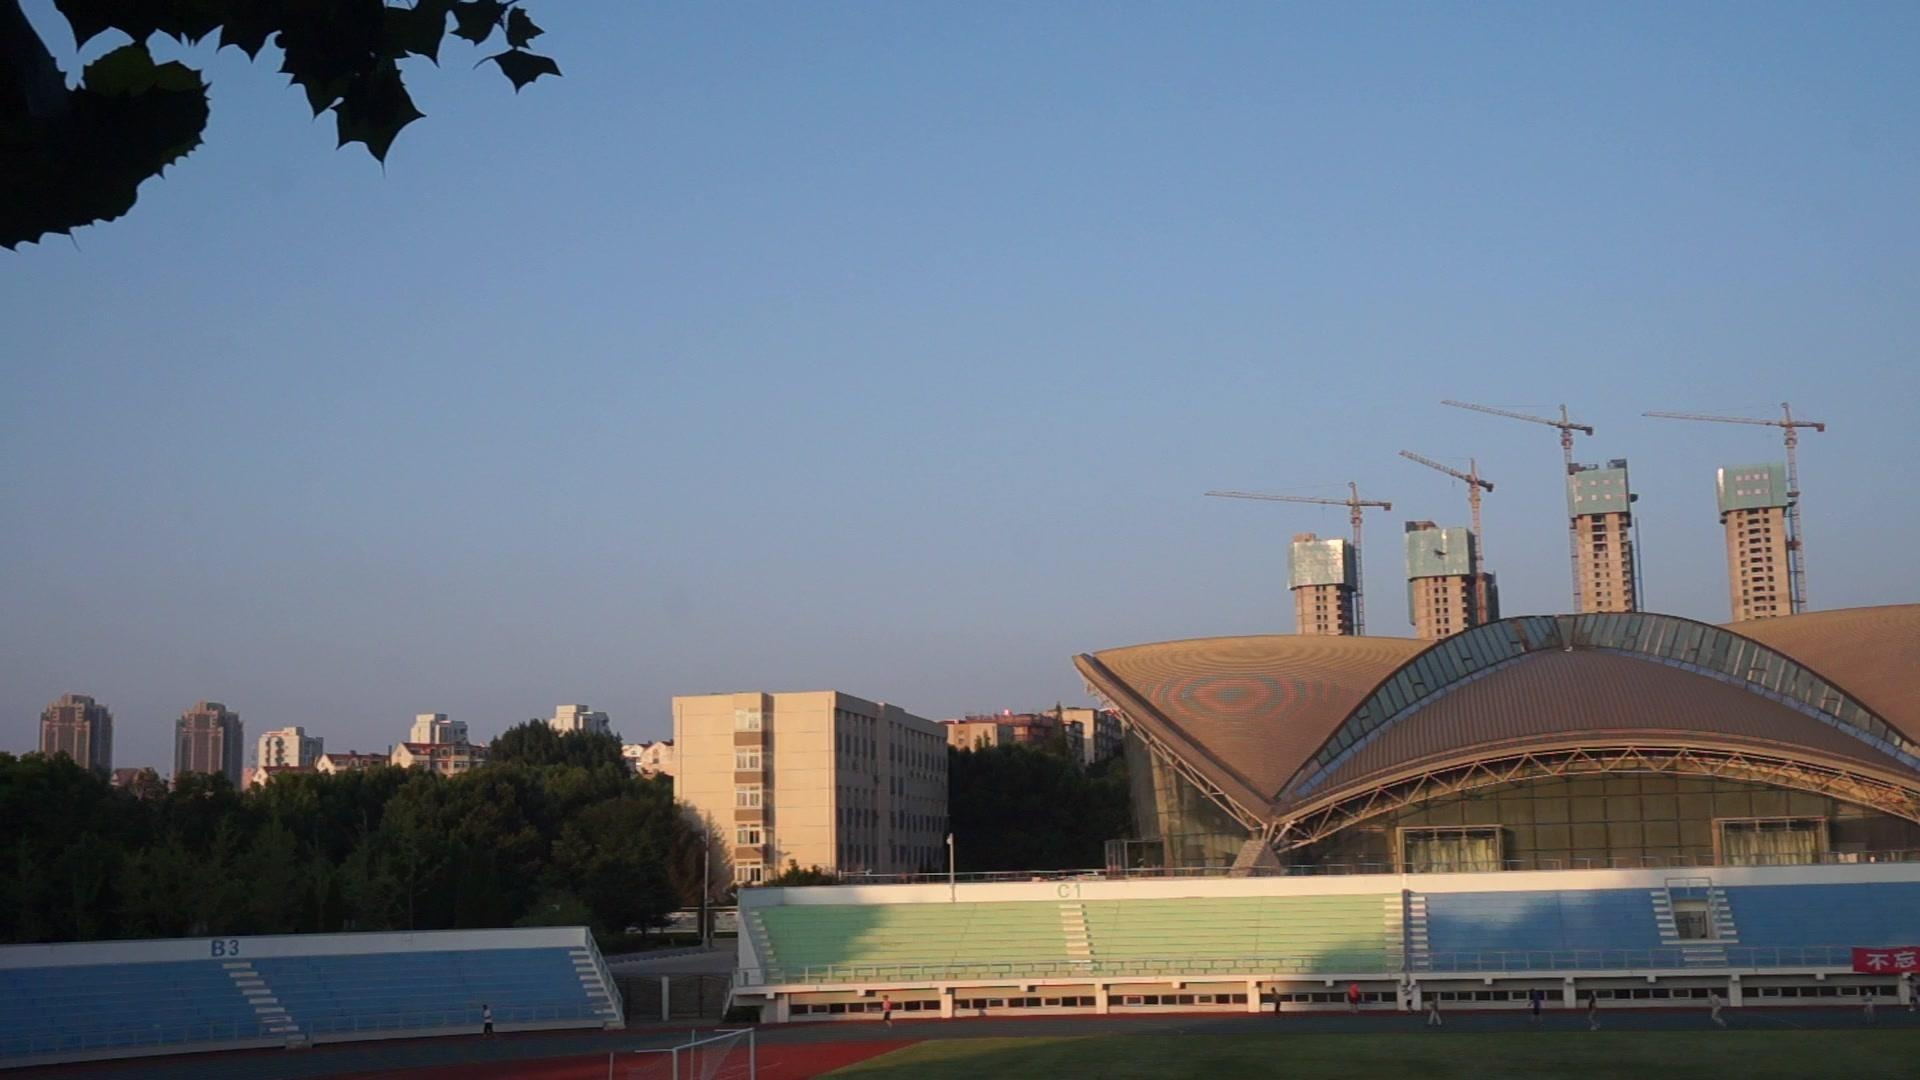UAV: (1433, 549, 1448, 559)
